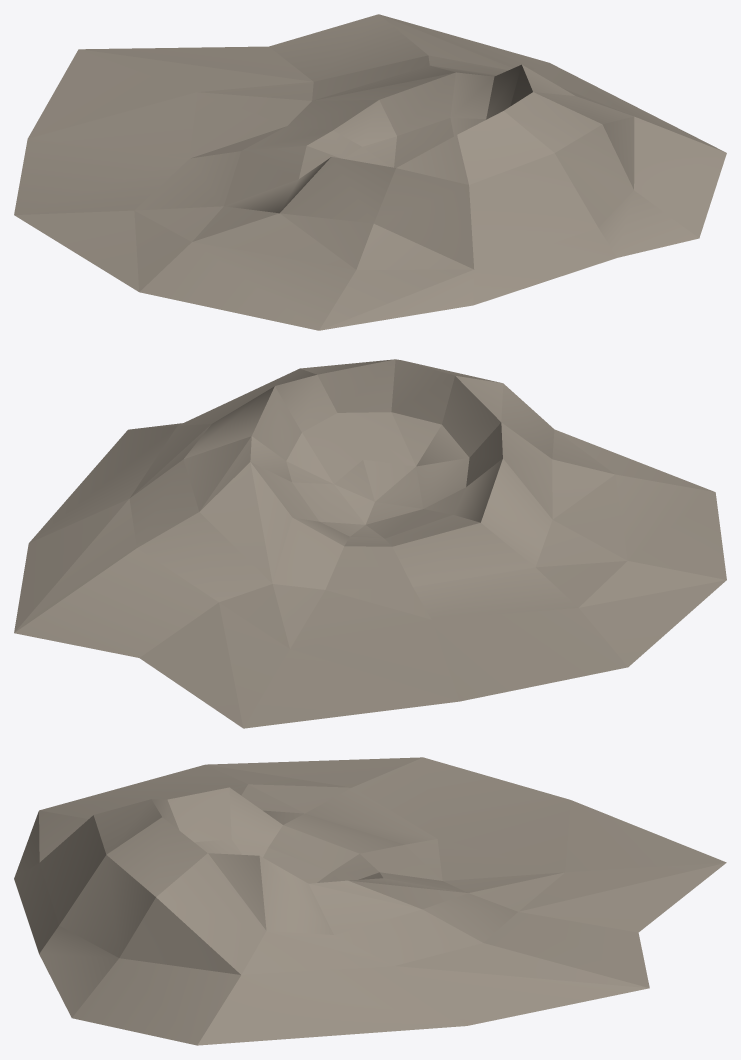
File: crater_01.glb
3 views of the same model, one above another, from view 1: azimuth 30°, elevation 25°; view 2: azimuth 150°, elevation 25°; view 3: azimuth 270°, elevation 25° (orthographic). The views are drawn at different scales.
Visible parts, largest first — view 1: crater_01; view 2: crater_01; view 3: crater_01.
Boxes of the visible parts, x1,y1,x2,y2 form: crater_01: (14, 14, 726, 330); crater_01: (14, 359, 726, 728); crater_01: (14, 757, 726, 1045).
Size of the model in its own units: 10.23 by 2.13 by 10.69.
Materials: 1 (1 with a texture image).
